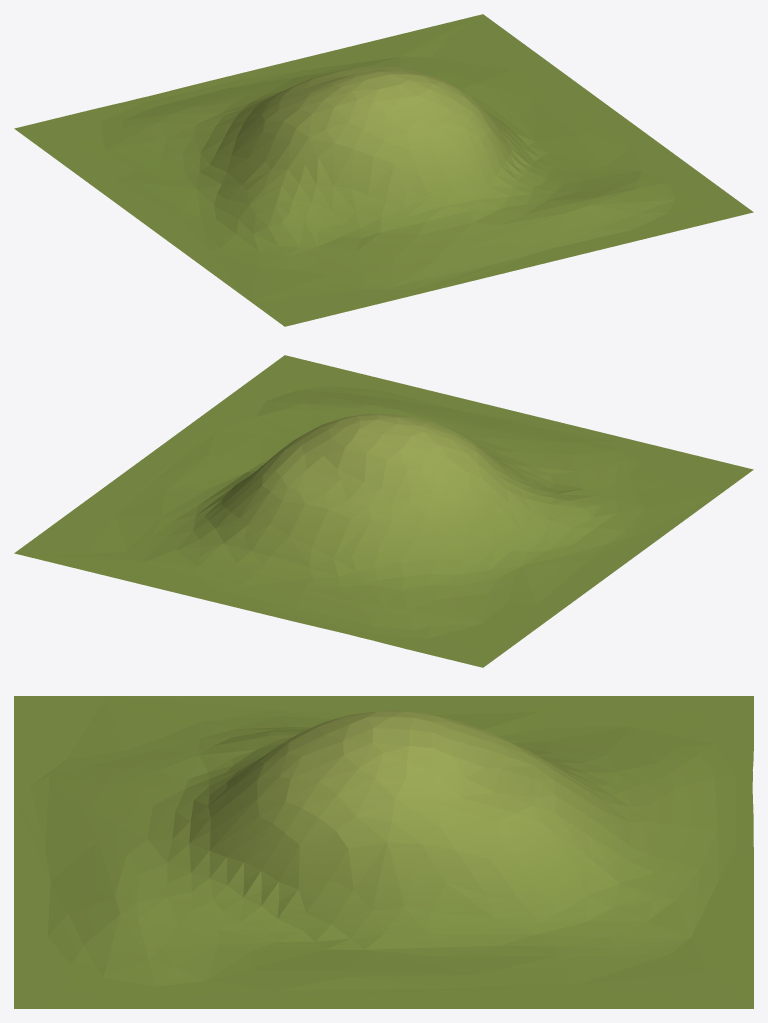
File: Terrain_04.fbx
The picture shows the model from 3 angles, top to bottom: view 1: azimuth 30°, elevation 25°; view 2: azimuth 150°, elevation 25°; view 3: azimuth 270°, elevation 25°; orthographic projection. The views are drawn at different scales.
Parts seen in each view (by area): view 1: Terrain_04; view 2: Terrain_04; view 3: Terrain_04.
Part boxes in pixels (box(x1,y1,x2,y2)): Terrain_04: box(14, 14, 753, 326); Terrain_04: box(14, 355, 753, 667); Terrain_04: box(14, 696, 753, 1008).
Size of the model in its own units: 128 by 22.93 by 128.
